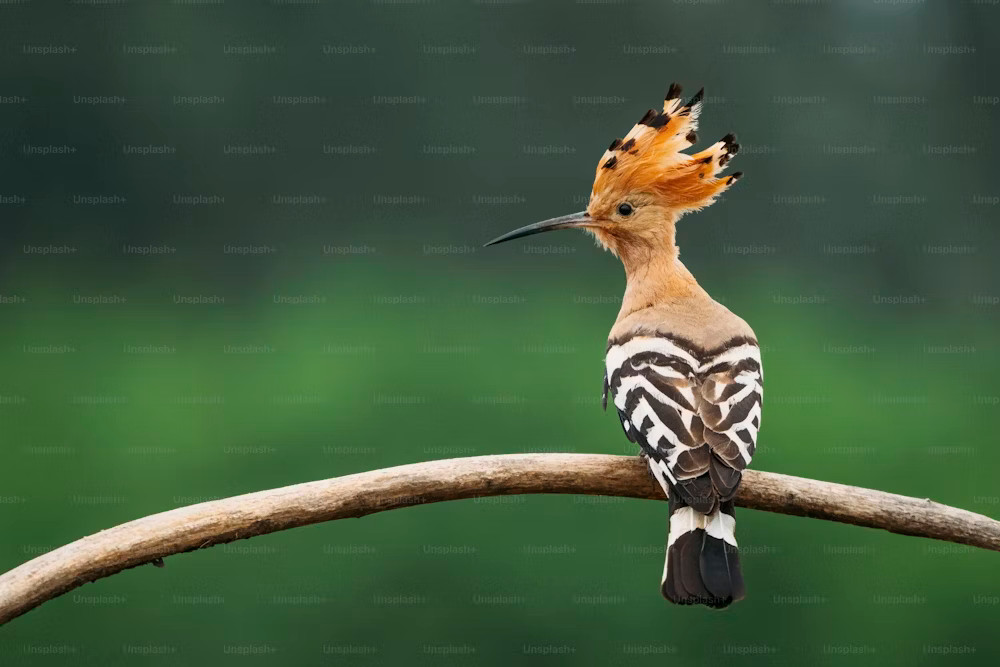bird: (483, 78, 766, 609)
